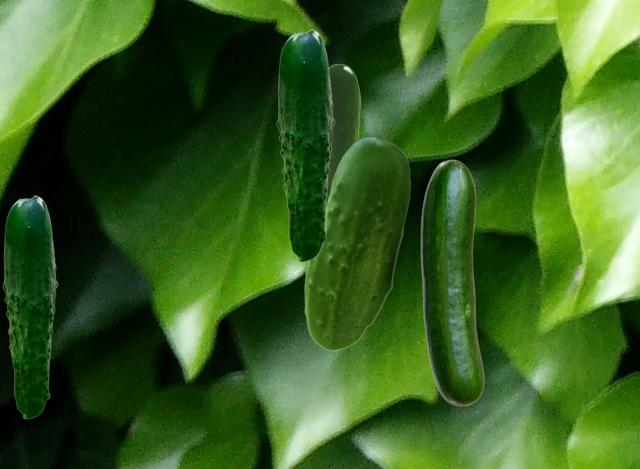cucumber: (304, 137, 409, 350), (420, 159, 483, 405), (276, 29, 334, 261), (2, 195, 57, 418), (328, 64, 359, 194)
